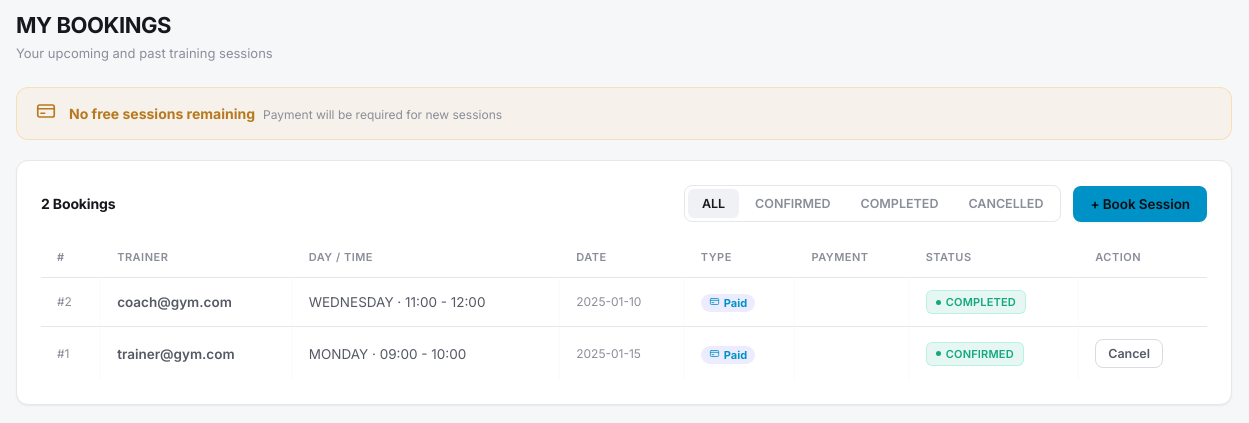
Test: MemberBookings — list › Completed tab filters to completed bookings only
Expected: the text "trainer@gym.com" is shown, left=101, top=327, right=293, bottom=380
Click the button "COMPLETED" at (899, 204), box left=846, top=189, right=952, bottom=218
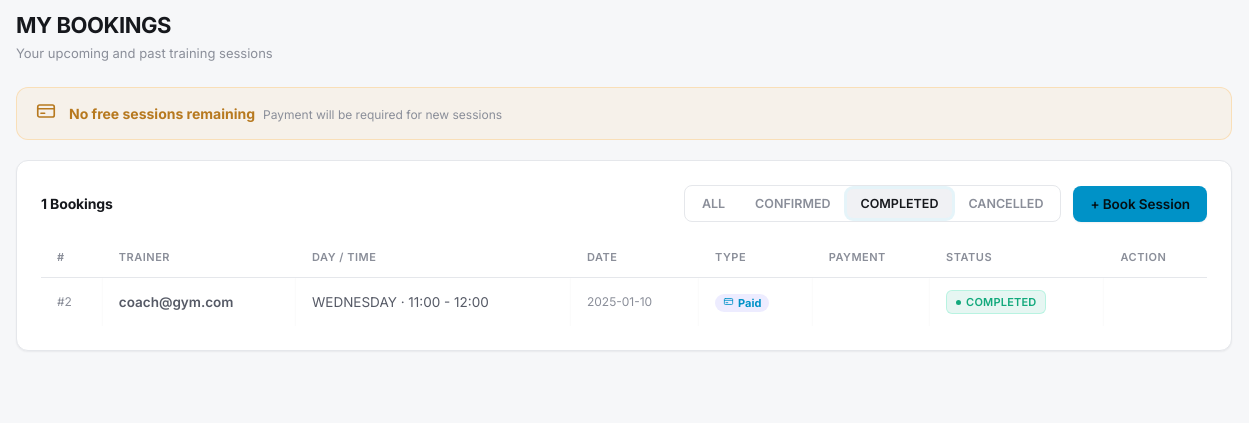
Expected: the text "coach@gym.com" is shown, left=103, top=277, right=296, bottom=326
Result: the text "trainer@gym.com" is gone
